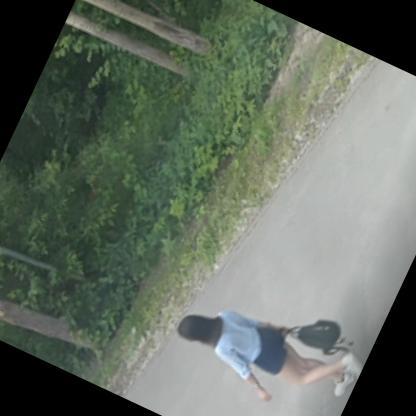Human Body: (158, 254, 378, 415)
